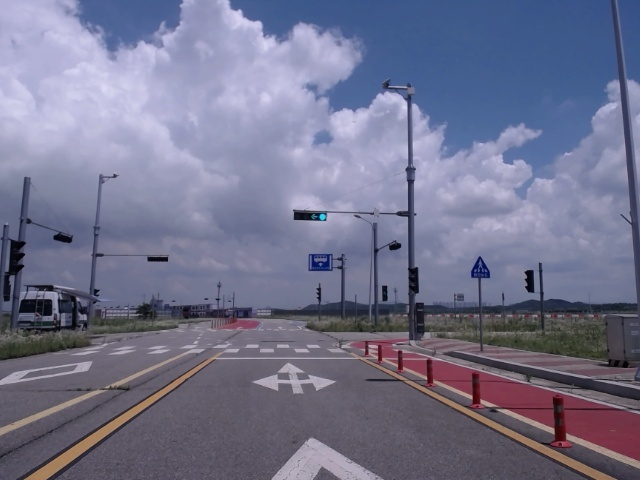all_green_4: (293, 209, 330, 220)
